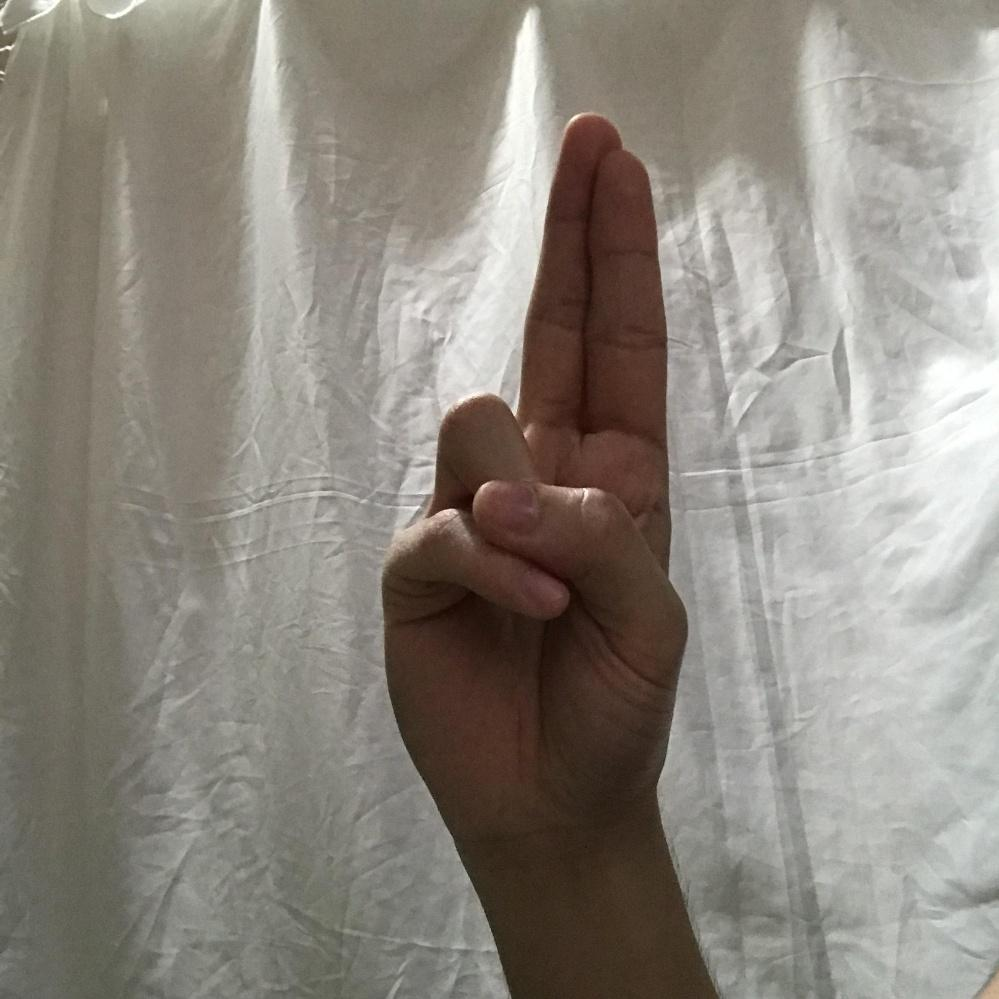r: (383, 109, 684, 820)
